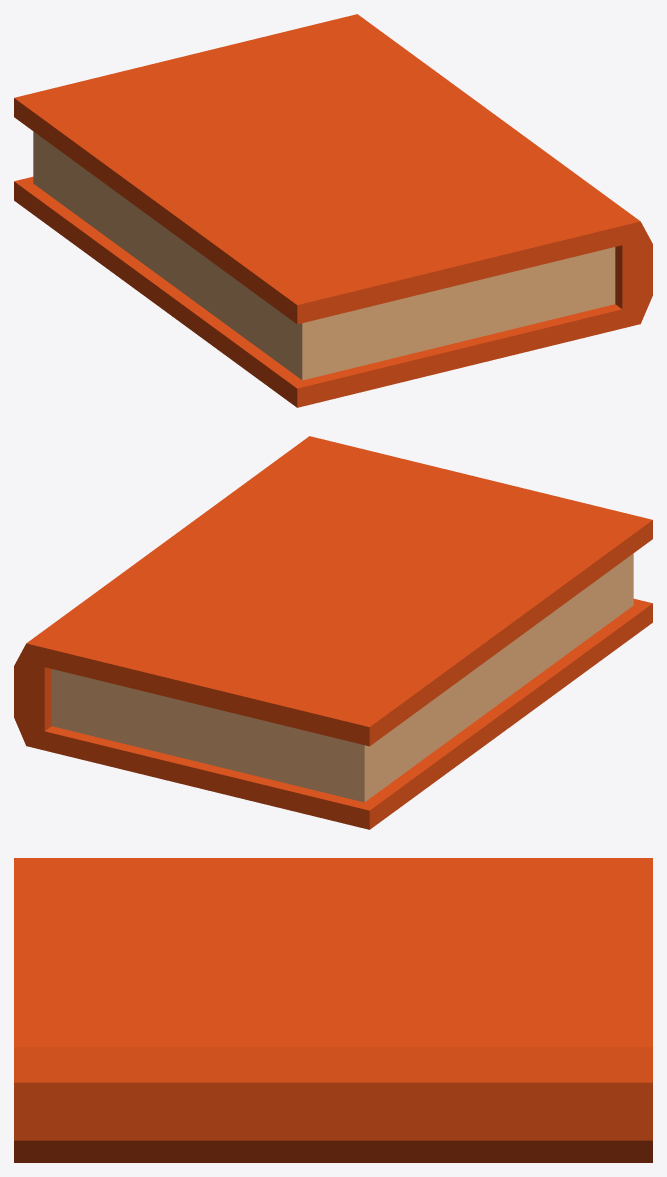
Rendered from Book_1.fbx.
The picture shows the model from 3 angles, top to bottom: view 1: azimuth 30°, elevation 25°; view 2: azimuth 150°, elevation 25°; view 3: azimuth 270°, elevation 25°; orthographic projection. The views are drawn at different scales.
Parts seen in each view (by area): view 1: Book_1; view 2: Book_1; view 3: Book_1.
Boxes of the visible parts, box(x1,y1,x2,y2) form: Book_1: box(14, 14, 652, 407); Book_1: box(14, 436, 652, 829); Book_1: box(14, 858, 652, 1162).
Size of the model in its own units: 0.29 by 0.4 by 0.08.
